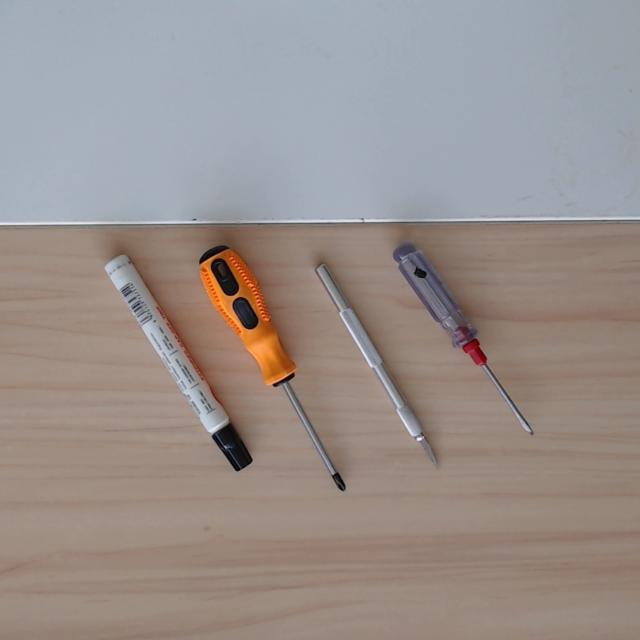Cutter-Kecil: (311, 260, 445, 474)
Marker-Pen: (100, 252, 259, 478)
Obeng-Besar: (190, 236, 353, 511)
Obeng-Kecil: (387, 238, 542, 444)
